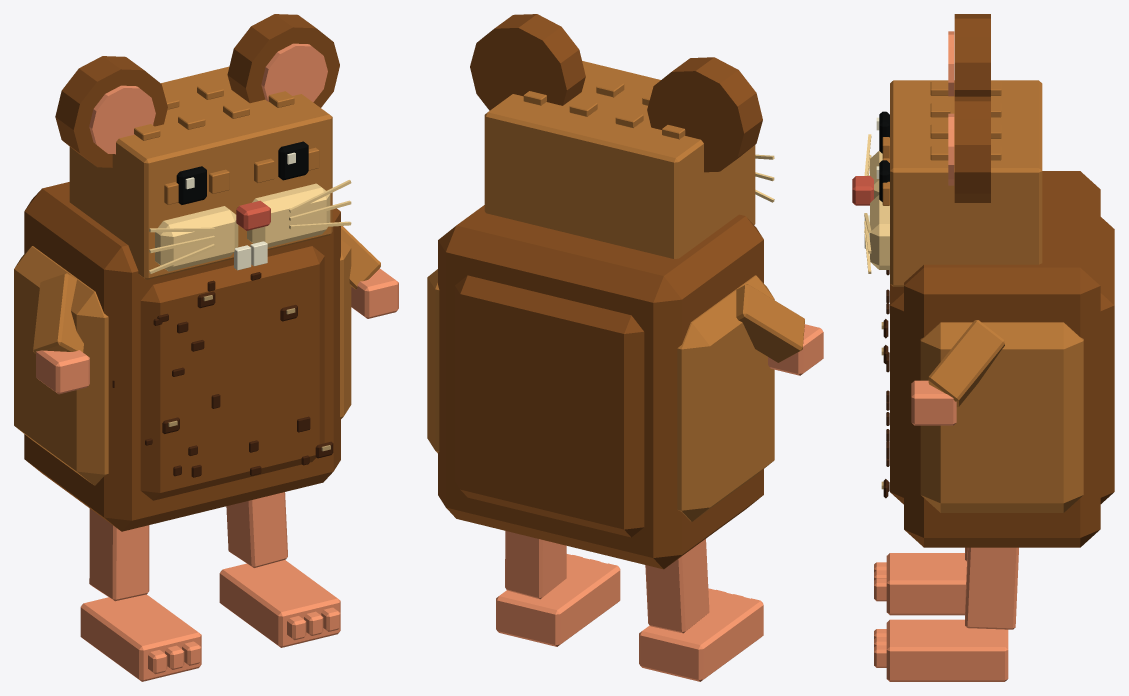
The model's file is PipiPotato.glb.
The picture shows the model from 3 angles, left to right: view 1: azimuth 30°, elevation 25°; view 2: azimuth 150°, elevation 25°; view 3: azimuth 270°, elevation 25°; orthographic projection. The views are drawn at different scales.
Parts seen in each view (by area): view 1: PipiPotato; view 2: PipiPotato; view 3: PipiPotato.
Part boxes in pixels (bbox=[...]): PipiPotato: bbox=[14, 14, 398, 681]; PipiPotato: bbox=[427, 14, 823, 681]; PipiPotato: bbox=[852, 14, 1114, 681].
Size of the model in its own units: 3.09 by 5 by 2.07.
Materials: 1 (1 with a texture image).
